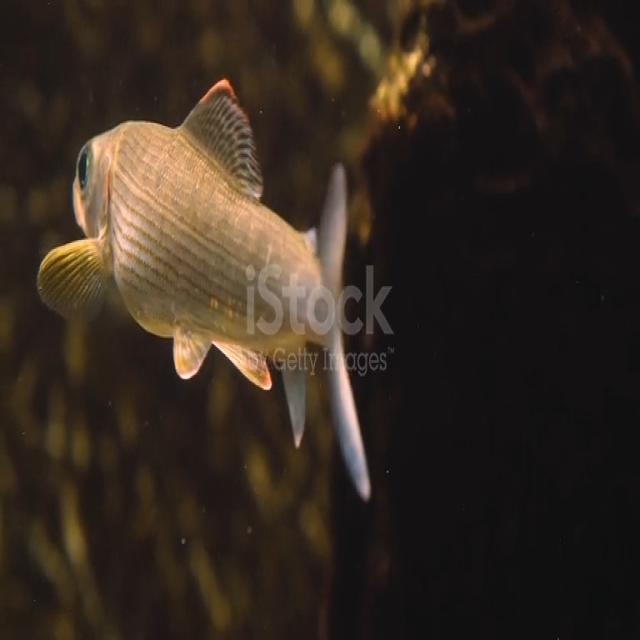fish: (36, 75, 372, 511)
